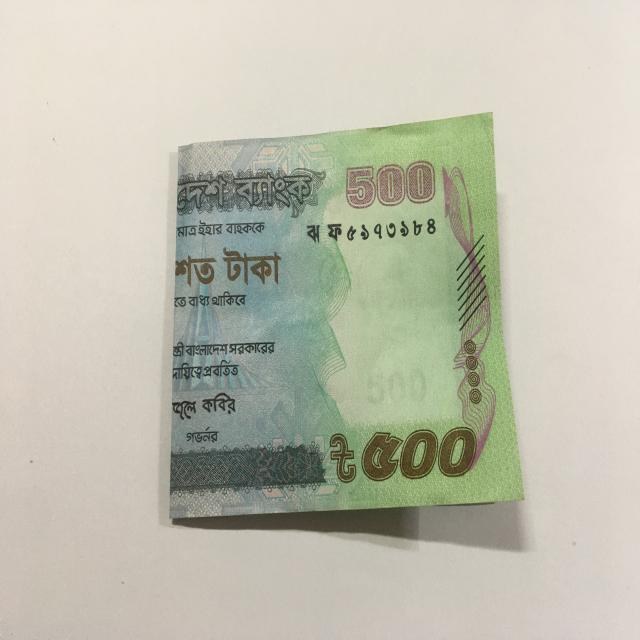Taka: (169, 117, 529, 524)
